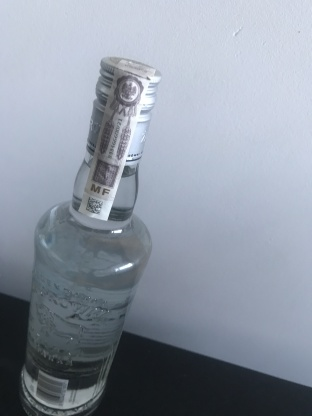nakretka: (84, 50, 163, 169)
